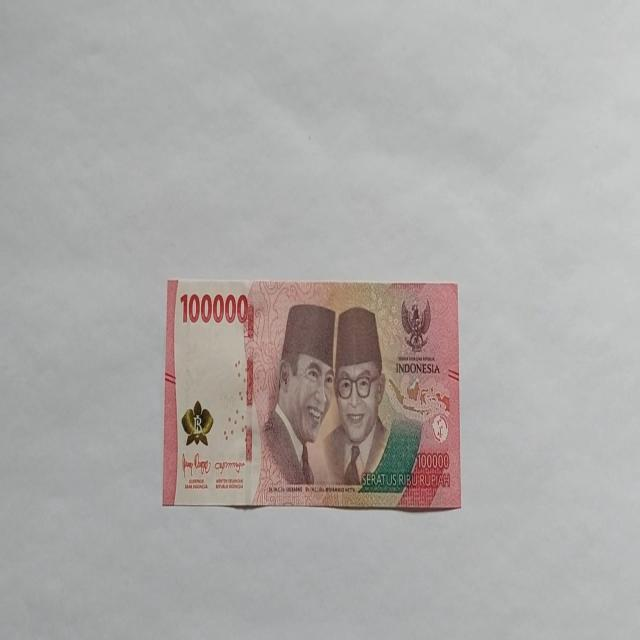seratus ribu rupiah: (162, 276, 461, 510), (254, 302, 336, 499)
